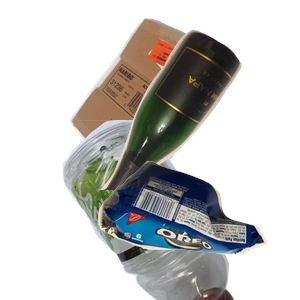cardboard: (67, 16, 295, 196)
glass: (87, 27, 300, 207)
plastic: (25, 120, 252, 300)
trash: (95, 158, 300, 300)
